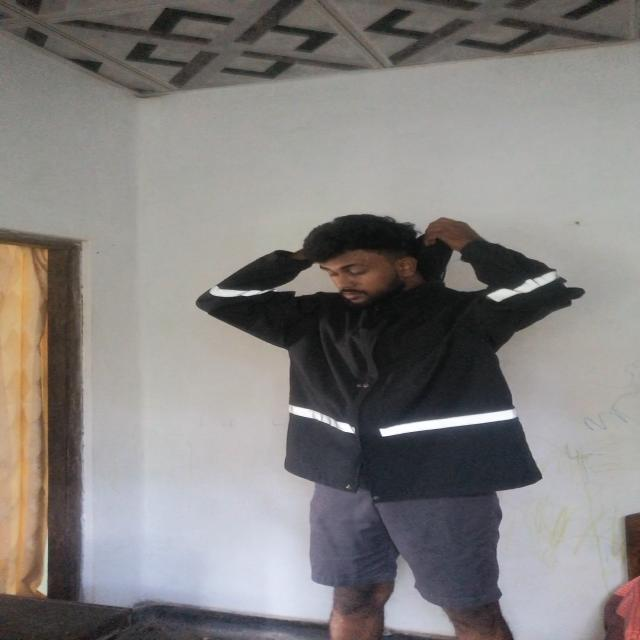Jacket_Wearer: (196, 251, 584, 496)
